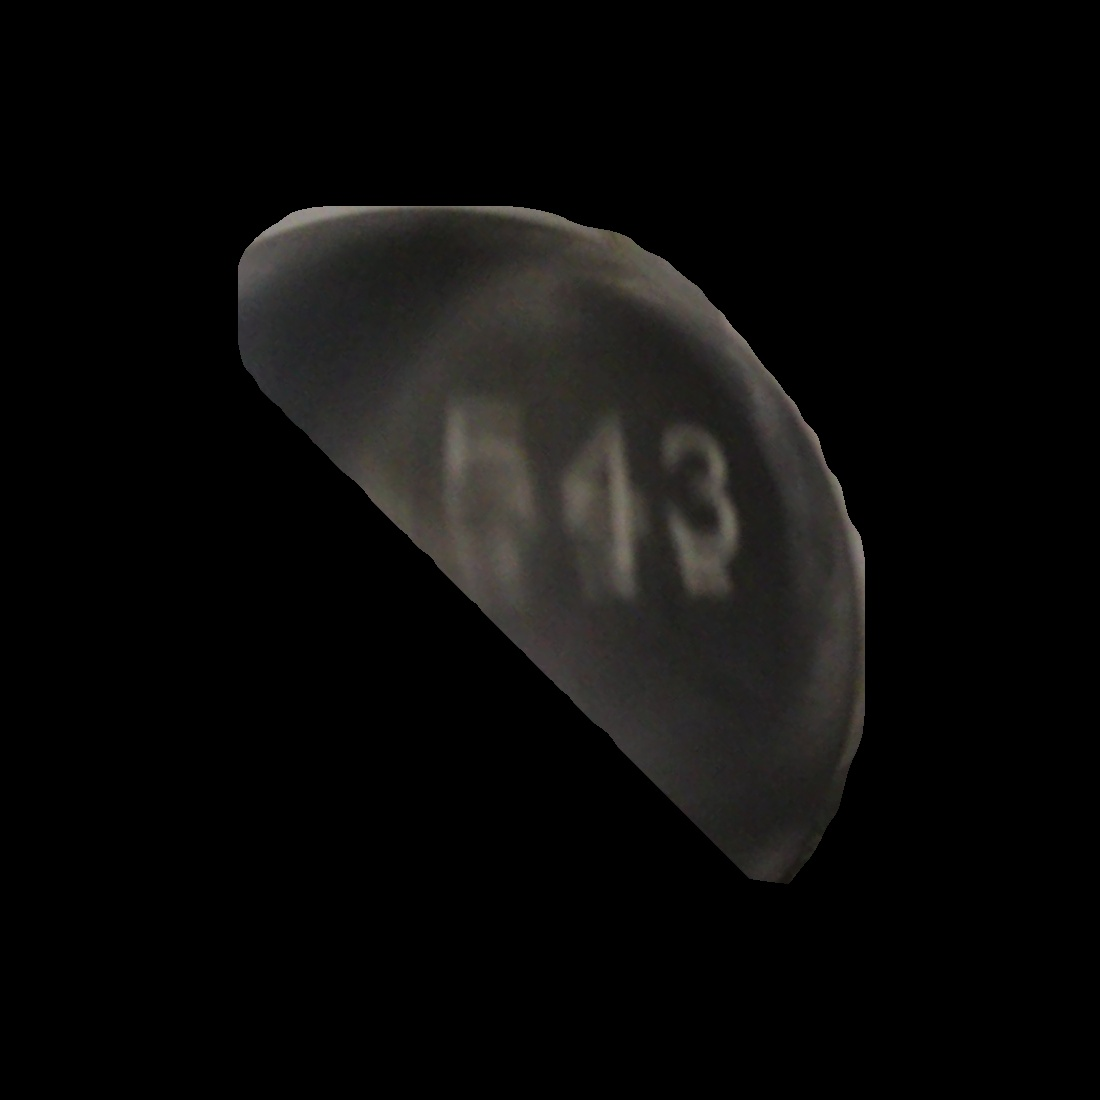digits: (438, 395, 746, 597)
